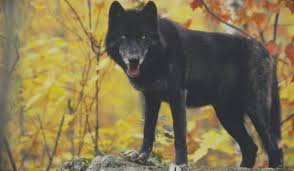Lobo: (102, 1, 283, 163)
